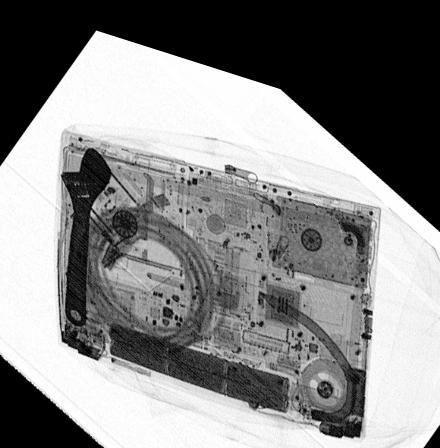Wrench: (60, 140, 113, 322)
